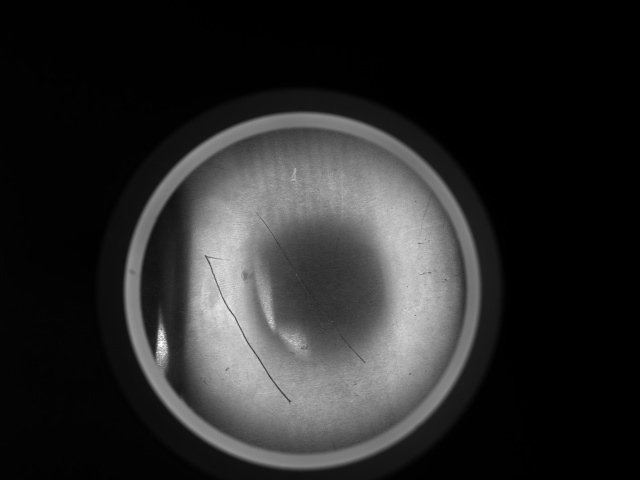ca_shang: (253, 208, 372, 366), (201, 251, 292, 406)
